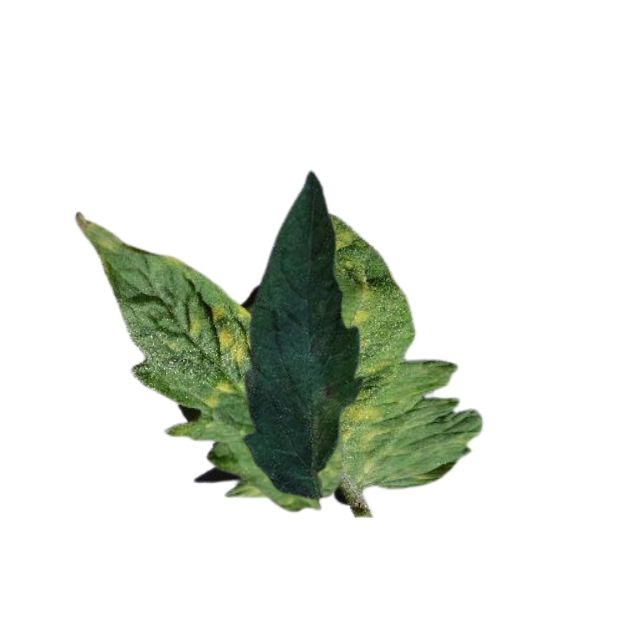Leaf_Mold: (186, 301, 252, 361), (336, 406, 386, 445), (202, 375, 237, 411)
